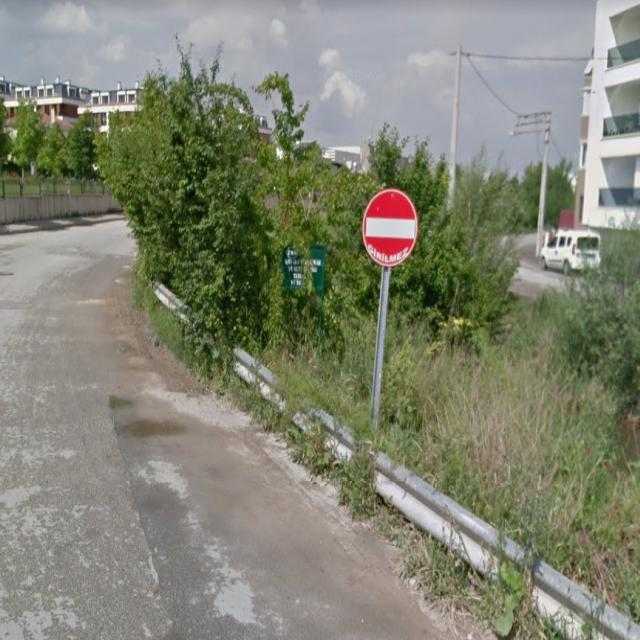girisyok: (363, 190, 417, 265)
